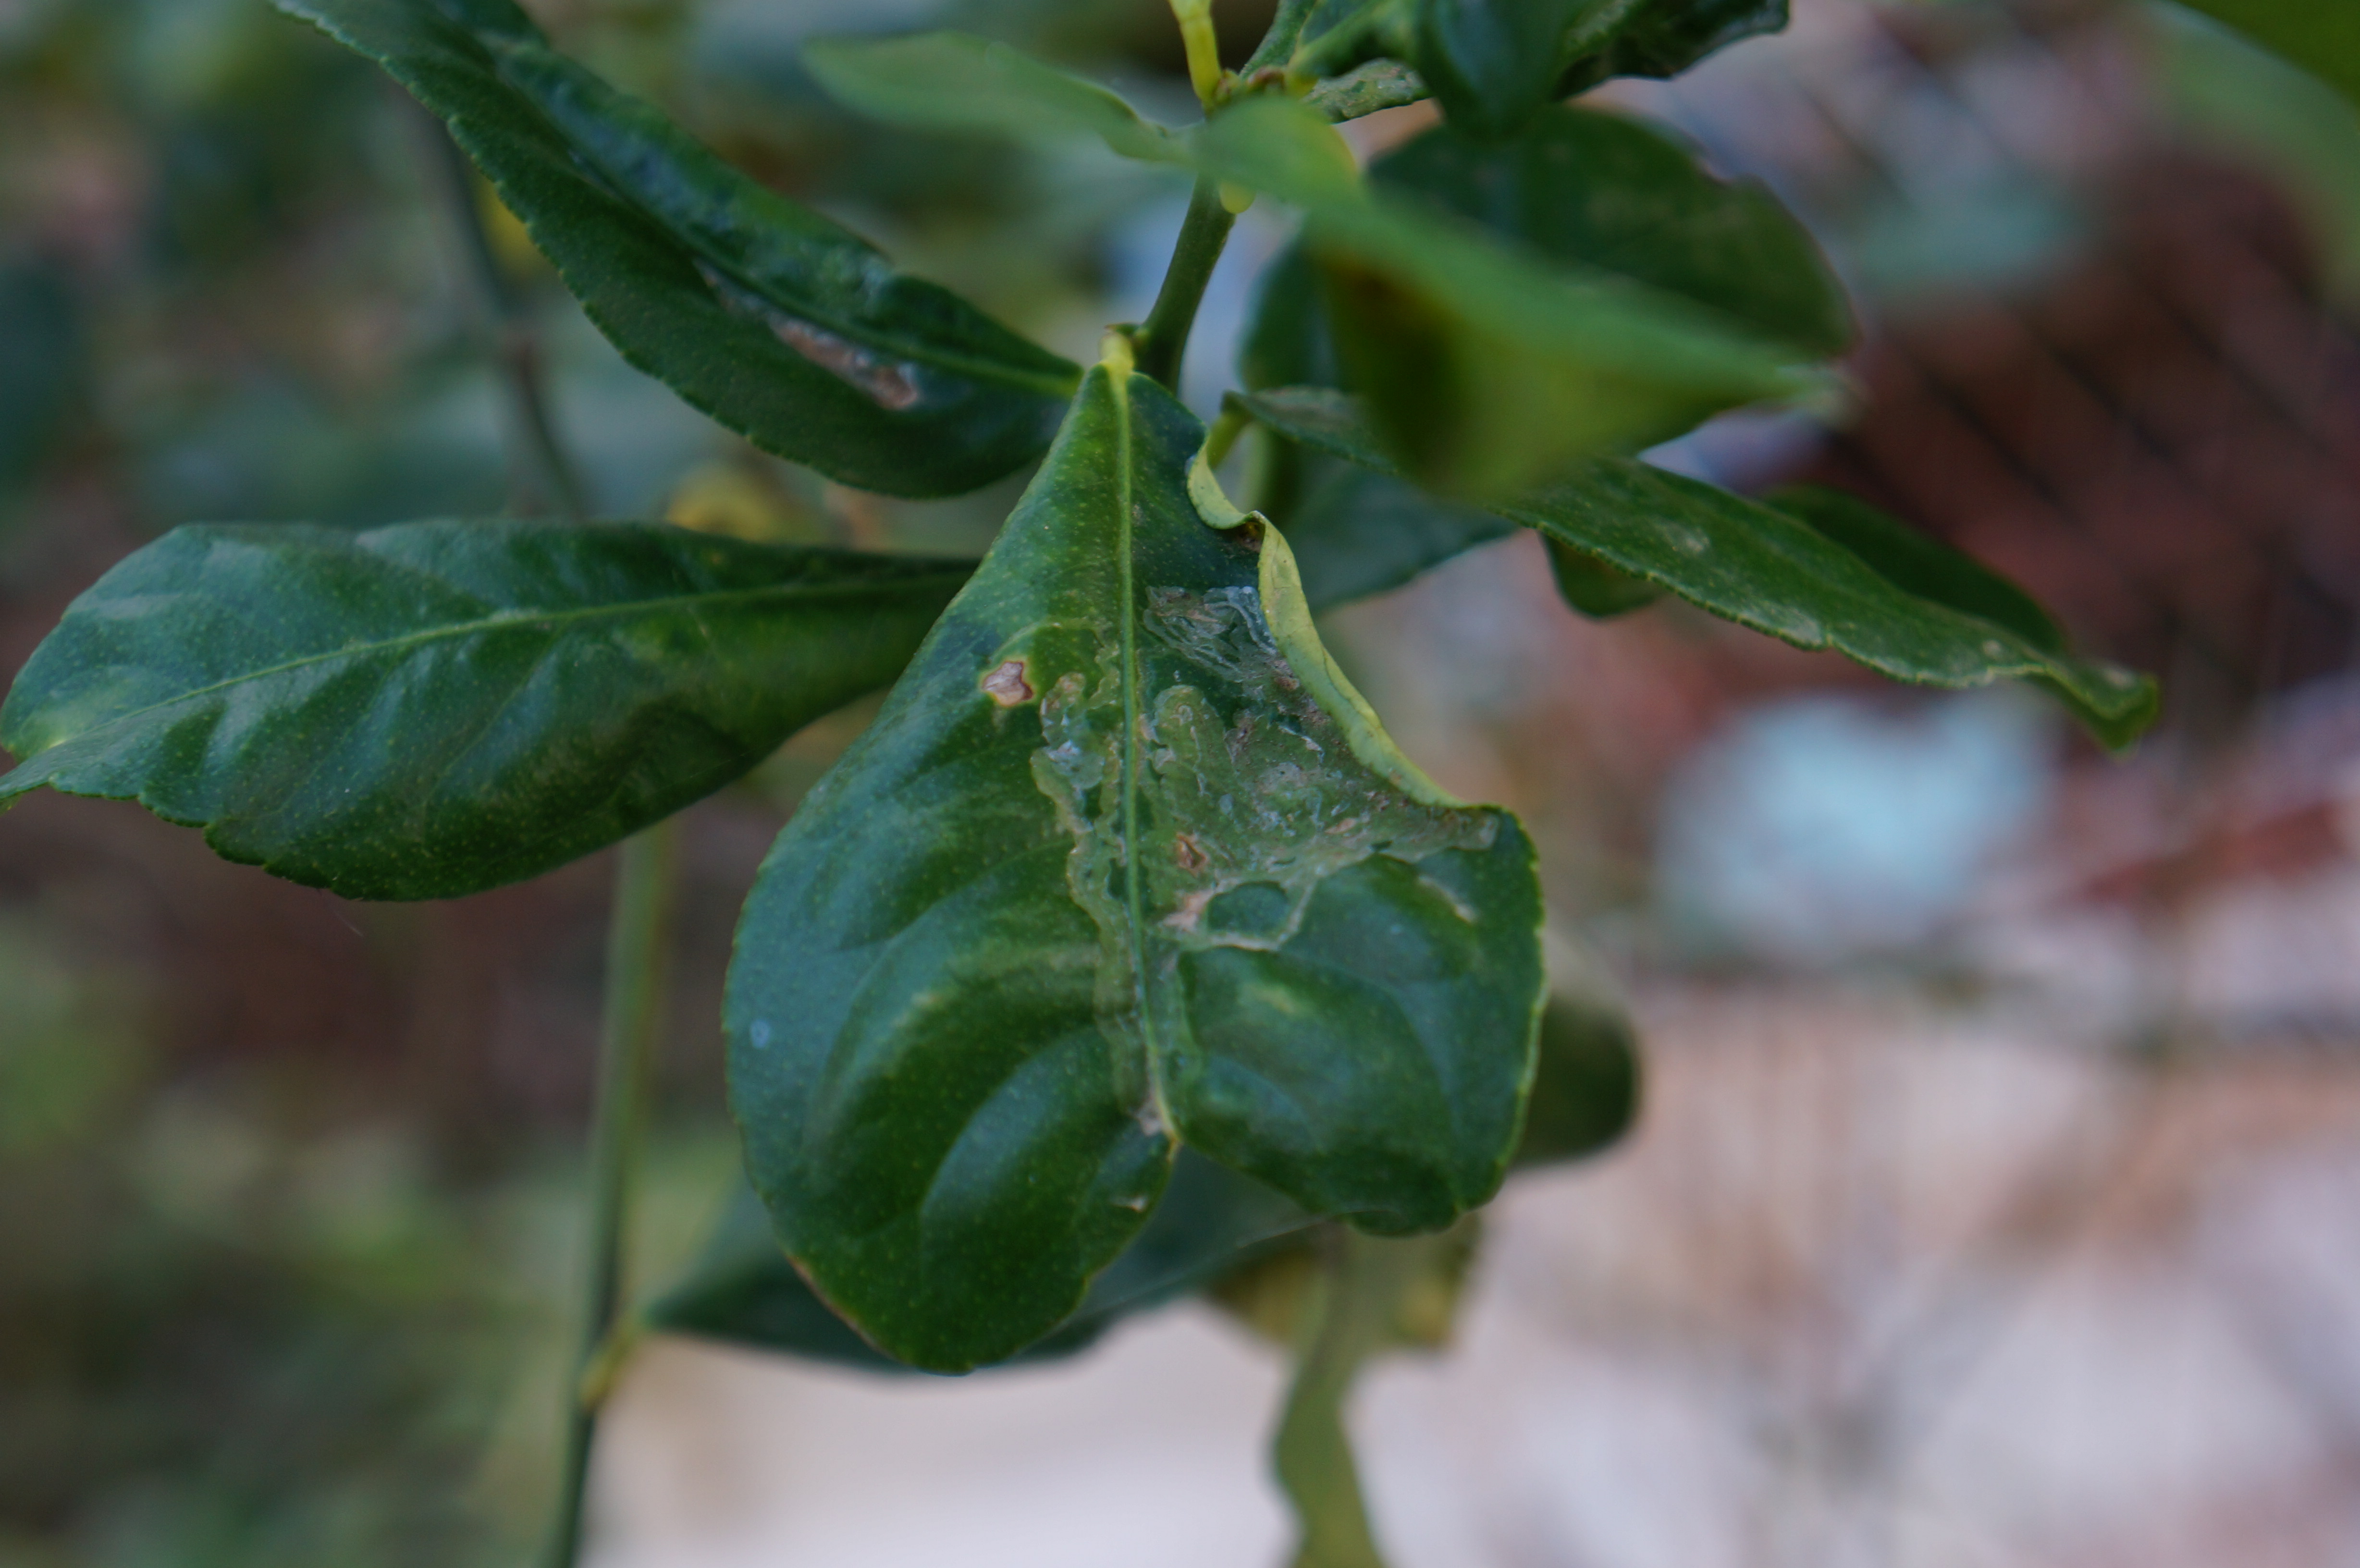damage: (983, 565, 1485, 1141)
